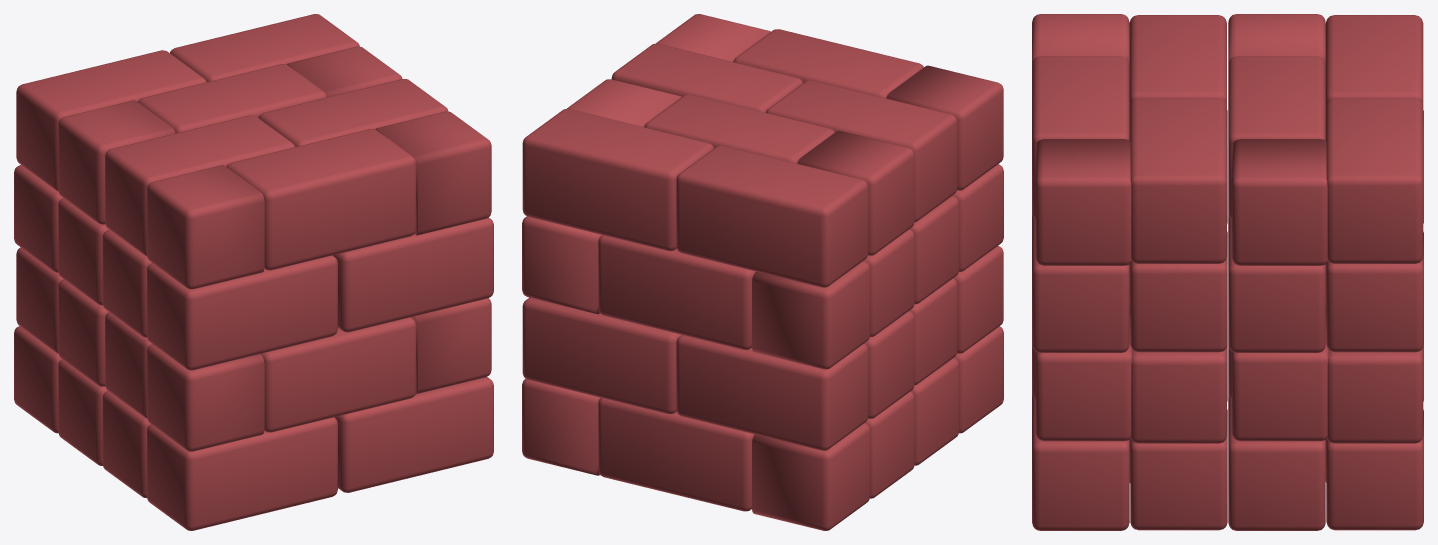
Rendered from wall.fbx.
3 views of the same model, side by side, from view 1: azimuth 30°, elevation 25°; view 2: azimuth 150°, elevation 25°; view 3: azimuth 270°, elevation 25° (orthographic). The views are drawn at different scales.
Parts seen in each view (by area): view 1: Cube.039; view 2: Cube.039; view 3: Cube.039.
Part boxes in pixels (<box>): Cube.039: <box>14,14,493,530</box>; Cube.039: <box>522,14,1003,530</box>; Cube.039: <box>1032,14,1423,530</box>.
Size of the model in its own units: 88.72 by 88.27 by 88.11.
